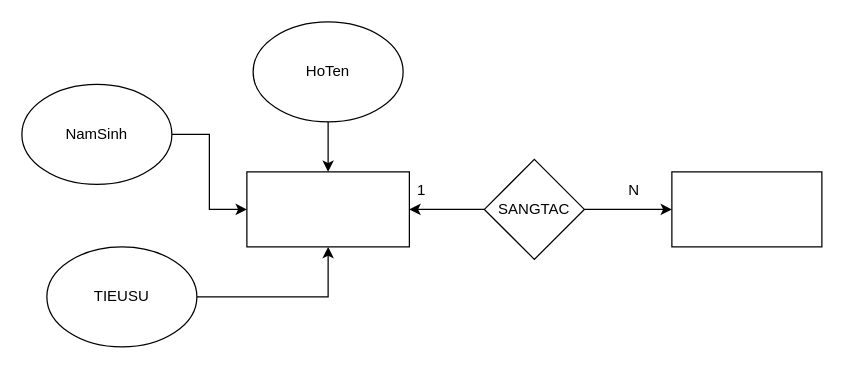
The diagram is 844 pixels wide and 369 high, and some of its shapes have lost their labels. The box of each missing label's shape, as (x1, y1, x2, y2) in pixels:
AUTHORS: (246, 171, 409, 247)
BOOKS: (671, 171, 822, 247)
